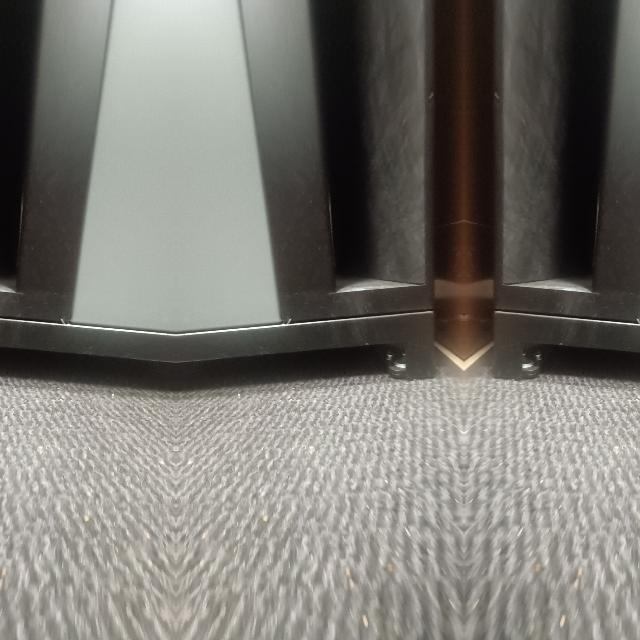obstacle: (184, 157, 444, 385), (0, 157, 166, 385), (483, 157, 640, 385)
